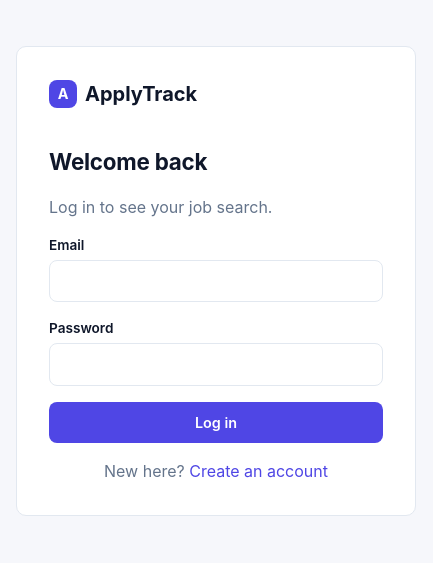
Test: authentication › shows the server error for a wrong password
The image size is (433, 563).
In the field labelled "Email": (216, 281) left=49, top=260, right=383, bottom=302, type "ram@example.com"
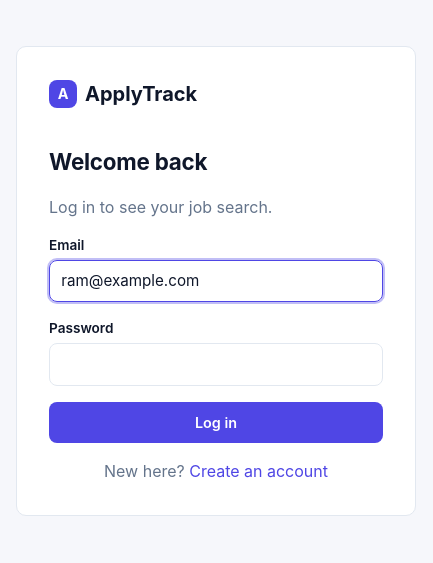
In the password field labelled "Password": (216, 365) left=49, top=343, right=383, bottom=386, type "nope"
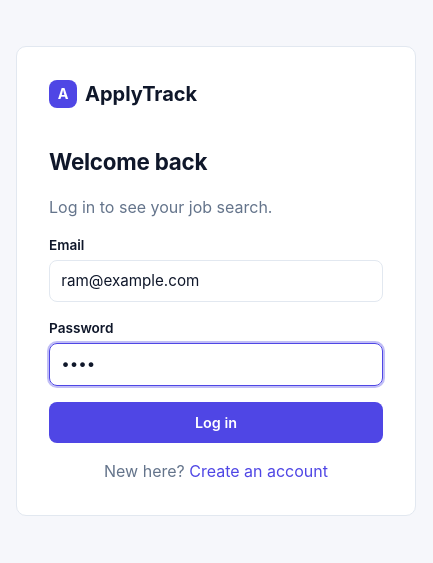
Click the button "Log in": (216, 422) left=49, top=402, right=383, bottom=443
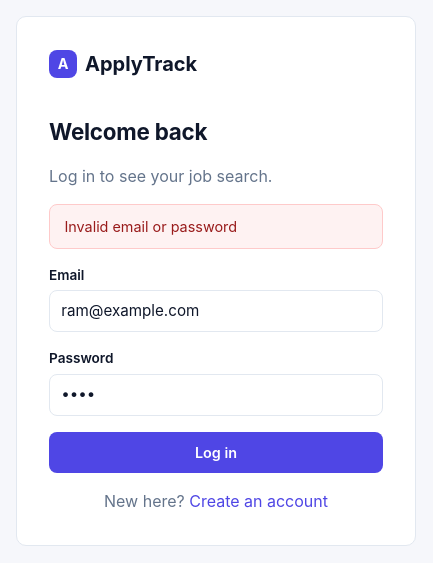
Check: the message reads "Invalid email or password", box left=64, top=218, right=237, bottom=235
